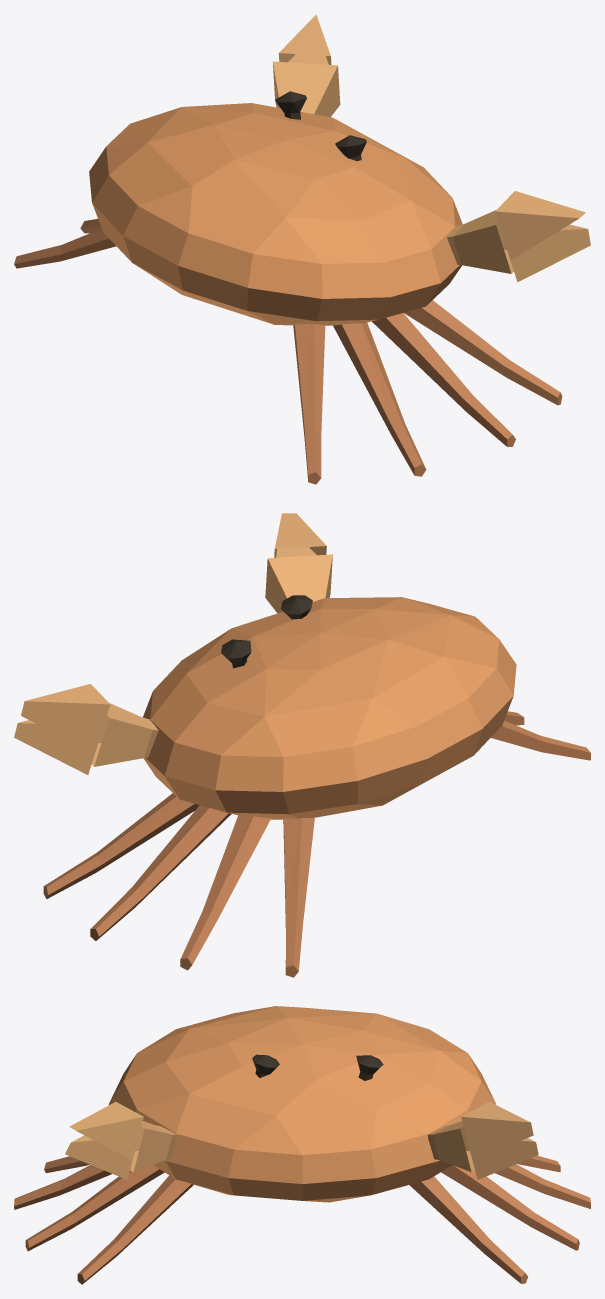
File: 36-Fauna_cangrejo_playa.glb
The picture shows the model from 3 angles, top to bottom: view 1: azimuth 30°, elevation 25°; view 2: azimuth 150°, elevation 25°; view 3: azimuth 270°, elevation 25°; orthographic projection. The views are drawn at different scales.
Visible parts, largest first — view 1: SM_Cangrejo_M_Cangrejo_Caparazon, SM_Cangrejo_M_Cangrejo_Patas, SM_Cangrejo_M_Cangrejo_Pinza, SM_Cangrejo_M_Cangrejo_Ojos; view 2: SM_Cangrejo_M_Cangrejo_Caparazon, SM_Cangrejo_M_Cangrejo_Patas, SM_Cangrejo_M_Cangrejo_Pinza, SM_Cangrejo_M_Cangrejo_Ojos; view 3: SM_Cangrejo_M_Cangrejo_Caparazon, SM_Cangrejo_M_Cangrejo_Patas, SM_Cangrejo_M_Cangrejo_Pinza, SM_Cangrejo_M_Cangrejo_Ojos.
Boxes of the visible parts, x1,y1,x2,y2 form: SM_Cangrejo_M_Cangrejo_Caparazon: (89,103,462,325); SM_Cangrejo_M_Cangrejo_Patas: (14,219,562,484); SM_Cangrejo_M_Cangrejo_Pinza: (272,14,590,282); SM_Cangrejo_M_Cangrejo_Ojos: (275,91,366,161); SM_Cangrejo_M_Cangrejo_Caparazon: (143,597,516,819); SM_Cangrejo_M_Cangrejo_Patas: (43,711,590,977); SM_Cangrejo_M_Cangrejo_Pinza: (14,513,332,774); SM_Cangrejo_M_Cangrejo_Ojos: (221,595,312,668); SM_Cangrejo_M_Cangrejo_Caparazon: (108,1006,496,1202); SM_Cangrejo_M_Cangrejo_Patas: (14,1155,590,1284); SM_Cangrejo_M_Cangrejo_Pinza: (65,1101,538,1179); SM_Cangrejo_M_Cangrejo_Ojos: (252,1054,383,1080).
Size of the model in its own units: 0.6394 by 0.3976 by 1.12.
